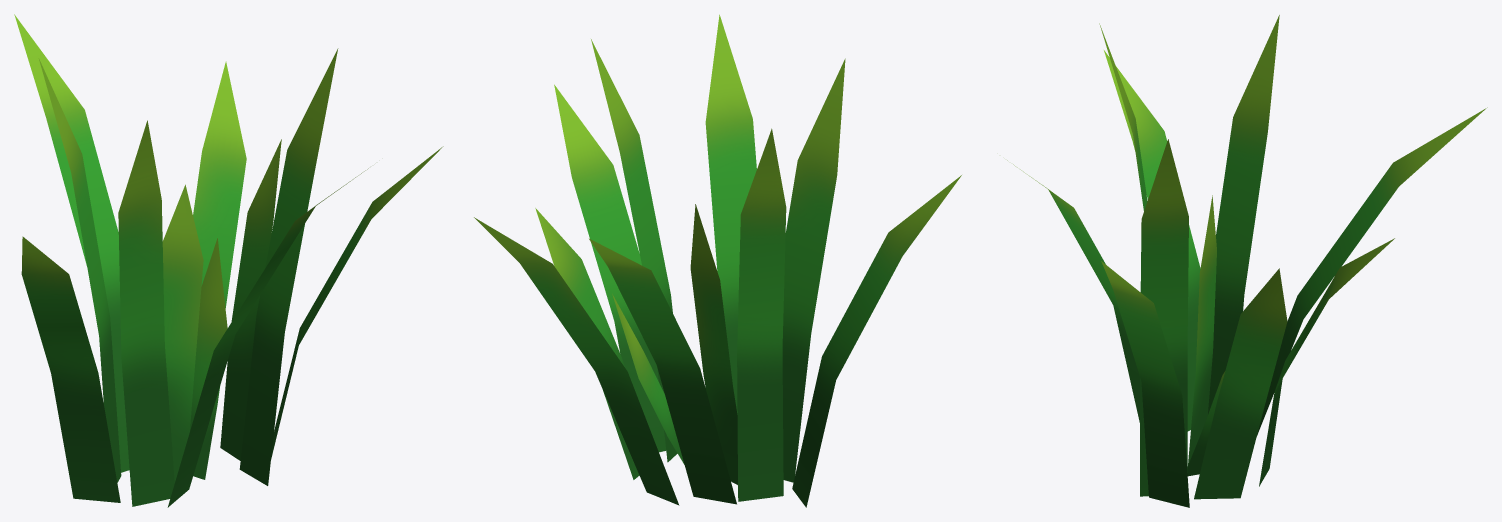
Rendered from Pasto General Para Replicar.fbx.
3 renders of one model, left to right at view 1: azimuth 30°, elevation 25°; view 2: azimuth 150°, elevation 25°; view 3: azimuth 270°, elevation 25°, orthographic. The views are drawn at different scales.
Visible parts, largest first — view 1: PE1; view 2: PE1; view 3: PE1.
Boxes of the visible parts, bbox=[...] form: PE1: bbox=[14, 14, 443, 507]; PE1: bbox=[474, 14, 961, 507]; PE1: bbox=[1007, 15, 1487, 507].
Size of the model in its own units: 13.94 by 13.19 by 14.56.
1 material, 1 textured.
